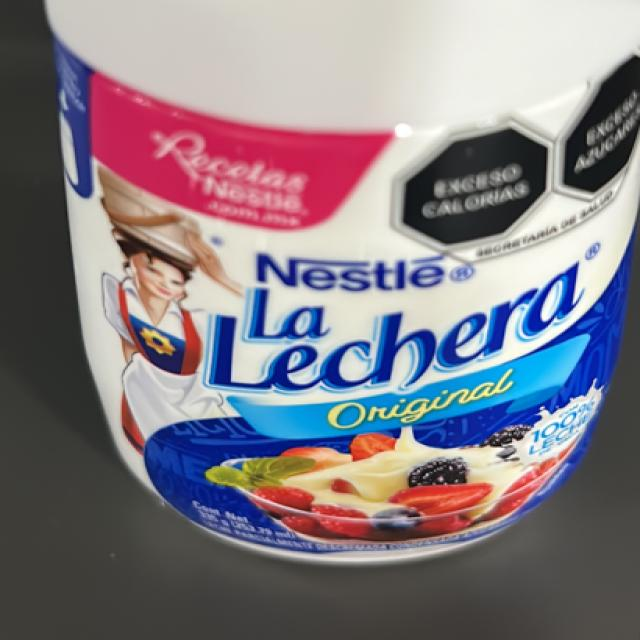nestleLechera: (74, 4, 620, 537)
